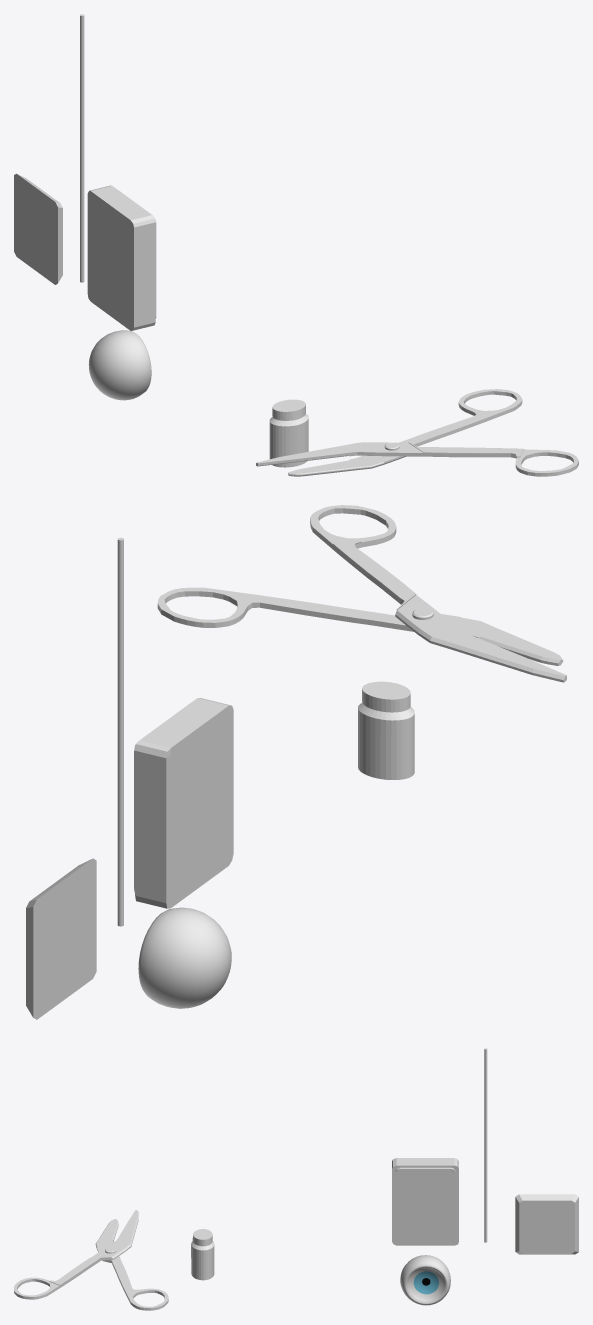
The model's file is Ojo.fbx.
3 views of the same model, one above another, from view 1: azimuth 30°, elevation 25°; view 2: azimuth 150°, elevation 25°; view 3: azimuth 270°, elevation 25° (orthographic). The views are drawn at different scales.
Visible parts, largest first — view 1: Cube, Circle.002, Cube.002, Sphere, Circle, Cylinder; view 2: Cube, Circle.002, Cube.002, Sphere, Circle, Cylinder; view 3: Cube.001, Cube.002, Circle.002, Sphere, Cube, Circle, Cylinder.
Part boxes in pixels (<box>): Cube: <box>87,185,155,330</box>; Circle.002: <box>256,389,578,476</box>; Cube.002: <box>14,173,62,284</box>; Sphere: <box>88,330,151,400</box>; Circle: <box>269,399,308,467</box>; Cylinder: <box>80,14,84,282</box>; Cube: <box>135,698,233,908</box>; Circle.002: <box>157,505,566,682</box>; Cube.002: <box>26,858,96,1019</box>; Sphere: <box>138,907,231,1008</box>; Circle: <box>358,681,414,779</box>; Cylinder: <box>117,537,123,926</box>; Cube.001: <box>395,1167,455,1244</box>; Cube.002: <box>515,1194,578,1254</box>; Circle.002: <box>14,1210,168,1310</box>; Sphere: <box>400,1255,450,1305</box>; Cube: <box>392,1158,458,1245</box>; Circle: <box>191,1229,214,1280</box>; Cylinder: <box>484,1048,487,1242</box>.
Size of the model in its own units: 417 by 518 by 1042.
